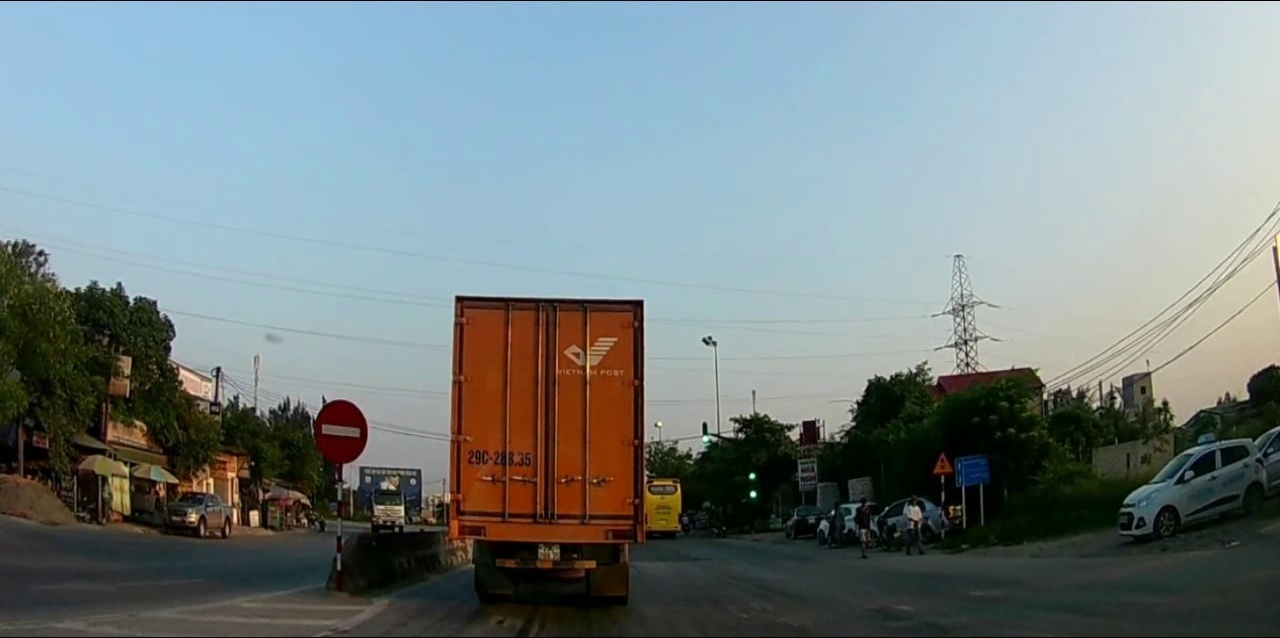Bien khac: (932, 450, 955, 475)
Cam di nguoc chieu: (314, 399, 366, 466)
